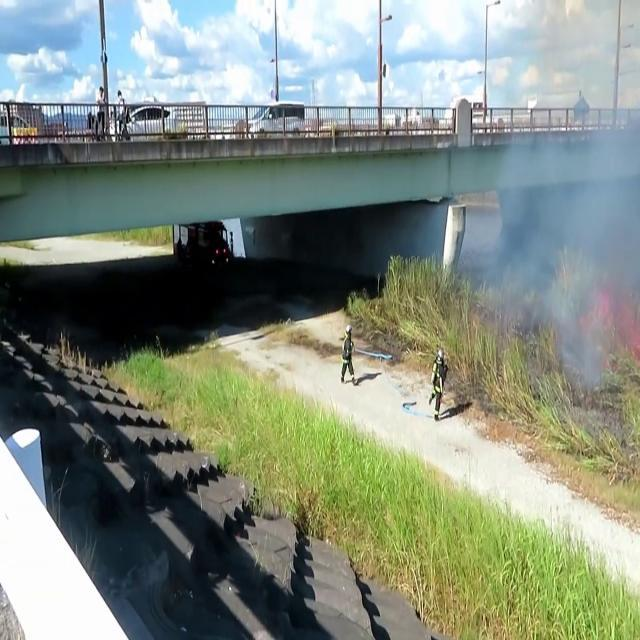Smoke: (480, 58, 640, 385)
